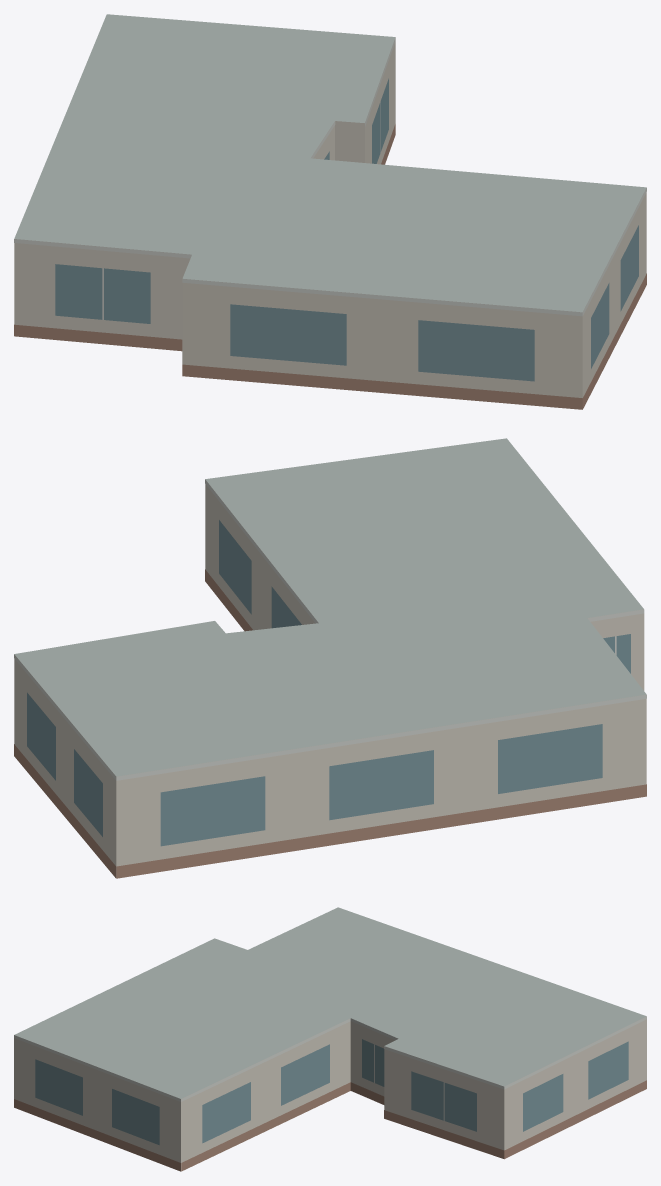
The model's file is survey-upis-33030427.glb.
3 renders of one model, top to bottom at view 1: azimuth 30°, elevation 25°; view 2: azimuth 150°, elevation 25°; view 3: azimuth 270°, elevation 25°, orthographic. The views are drawn at different scales.
Parts seen in each view (by area): view 1: survey-upis-33030427.tmp; view 2: survey-upis-33030427.tmp; view 3: survey-upis-33030427.tmp.
Part boxes in pixels (<box>): survey-upis-33030427.tmp: <box>14,14,646,409</box>; survey-upis-33030427.tmp: <box>14,438,646,878</box>; survey-upis-33030427.tmp: <box>14,907,646,1171</box>.
Bounding box in the file's own units: 17.29 × 3.05 × 24.1.
